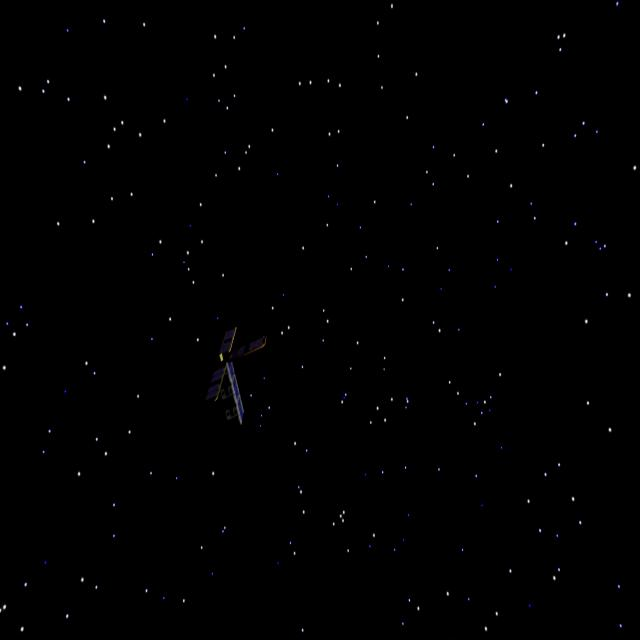satellite: (203, 320, 267, 439)
